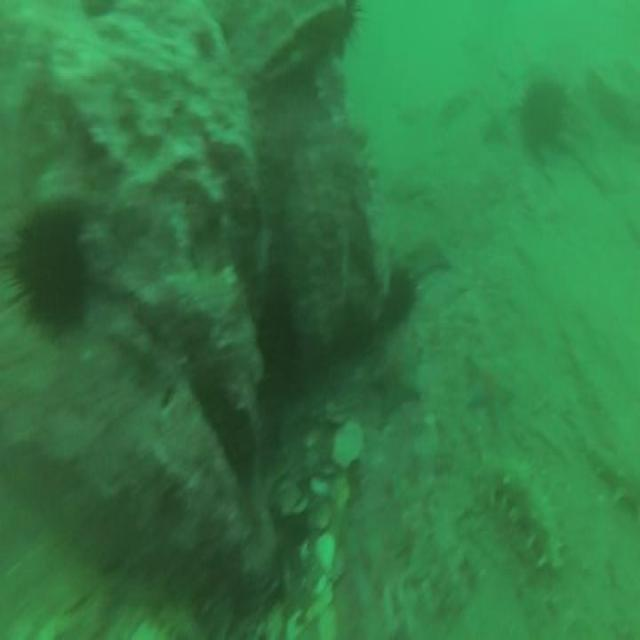echinus: (15, 210, 83, 327), (254, 288, 300, 368), (519, 79, 562, 152), (388, 270, 415, 316)
holothurian: (474, 455, 564, 571), (588, 439, 640, 518)
scallop: (332, 423, 367, 471)
starfish: (373, 343, 425, 414), (466, 351, 513, 428), (410, 234, 450, 280)
